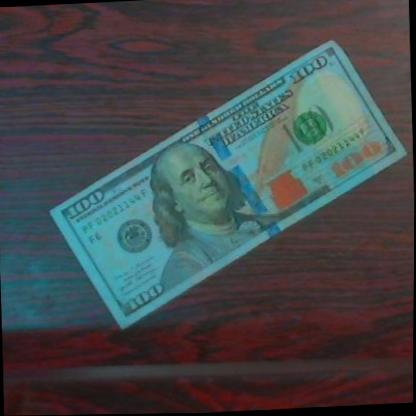one_hundred-front: (44, 35, 416, 325)
